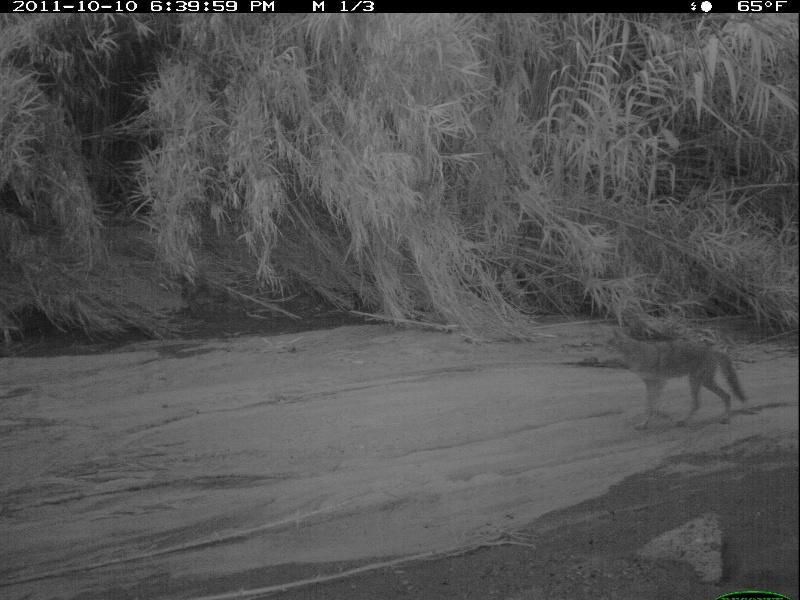coyote: (597, 326, 753, 427)
